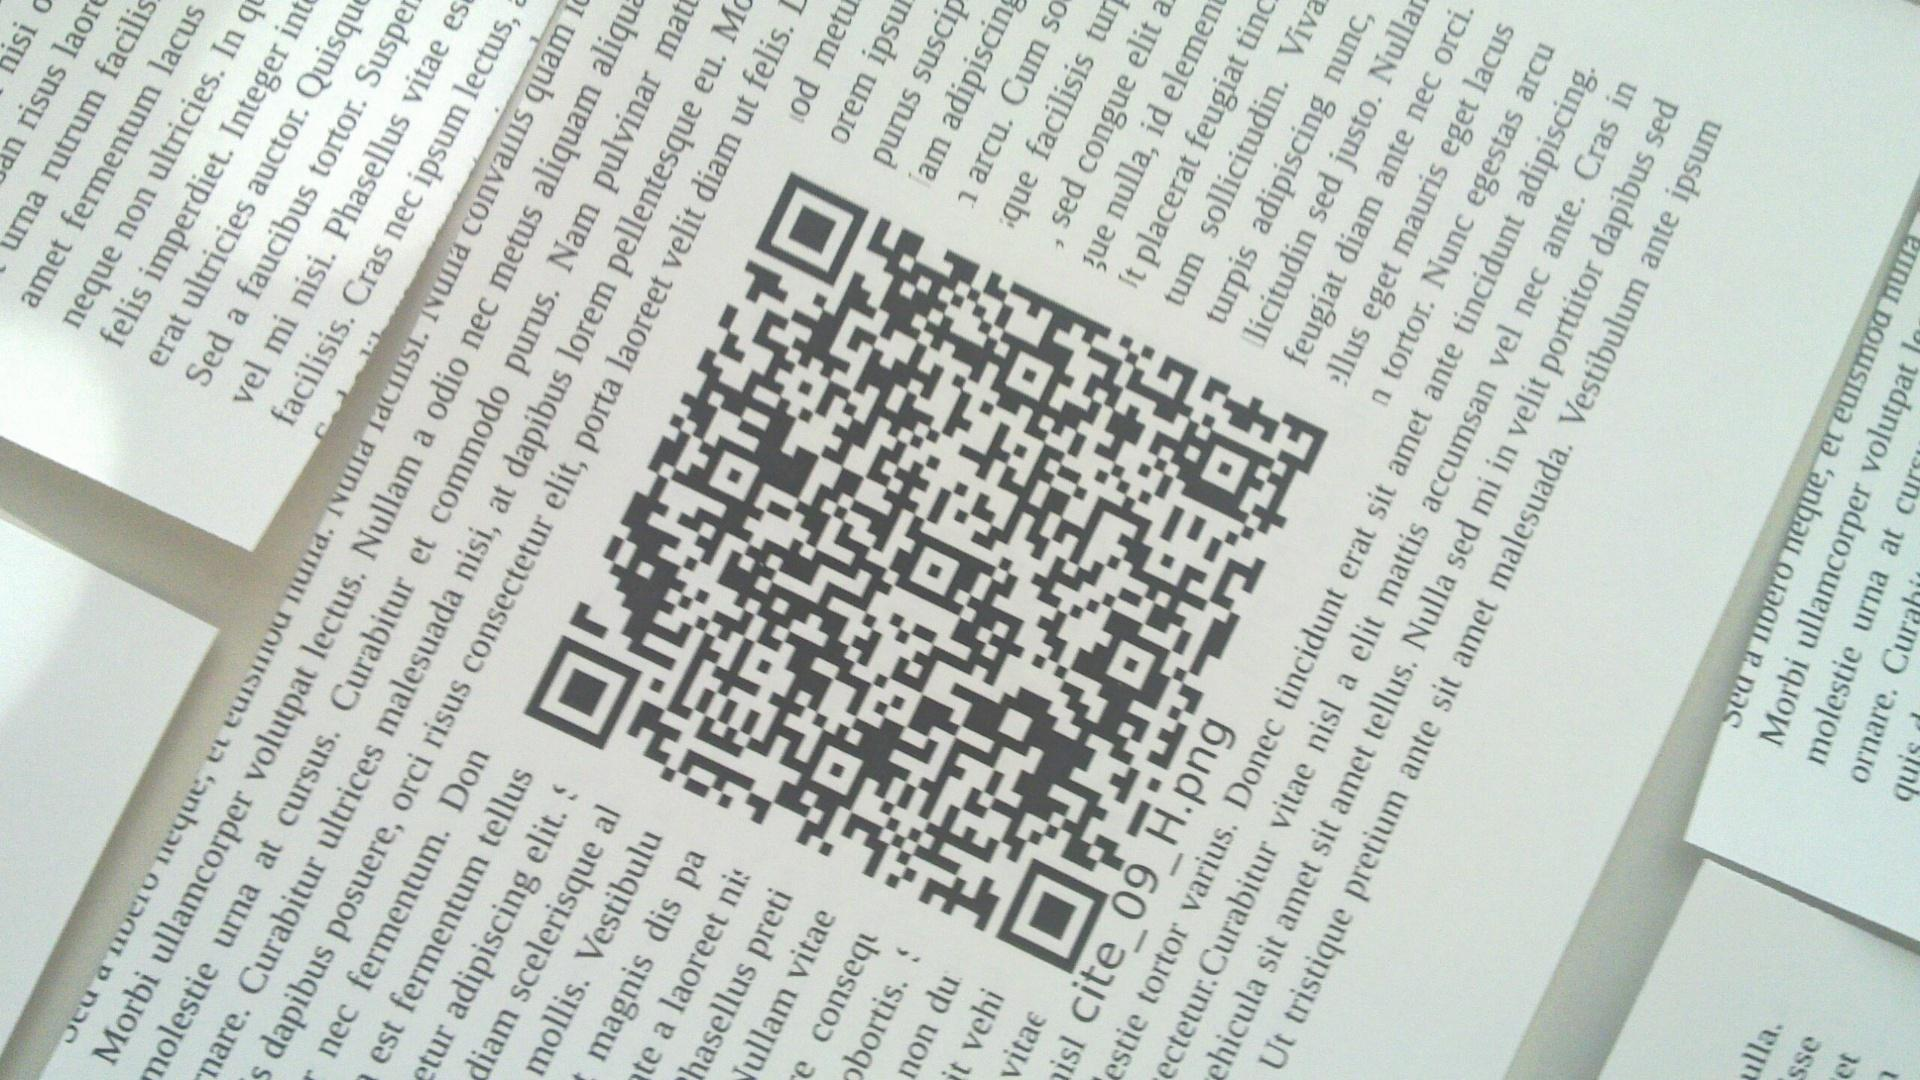Finder pattern: (750, 166, 874, 287), (990, 855, 1110, 975), (521, 636, 645, 752)
